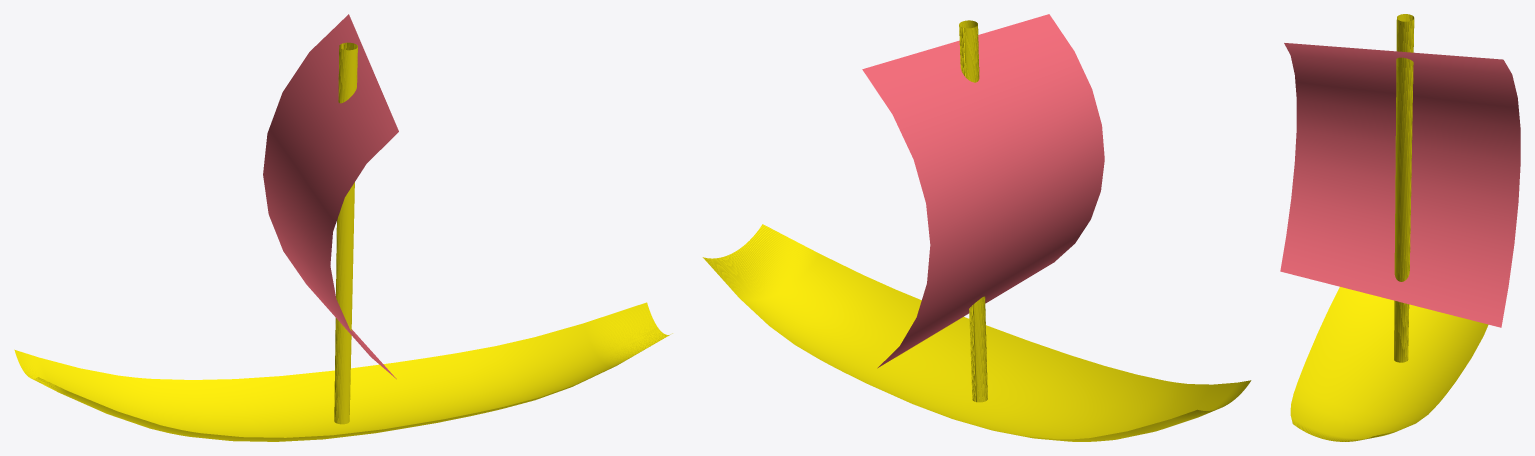
Rendered from sailingboat 2.fbx.
The picture shows the model from 3 angles, left to right: view 1: azimuth 30°, elevation 25°; view 2: azimuth 150°, elevation 25°; view 3: azimuth 270°, elevation 25°; orthographic projection. The views are drawn at different scales.
Visible parts, largest first — view 1: sailingboat1; view 2: sailingboat1; view 3: sailingboat1.
Part boxes in pixels (x1=…): sailingboat1: x1=14, y1=14, x2=672, y2=441; sailingboat1: x1=702, y1=14, x2=1251, y2=441; sailingboat1: x1=1280, y1=14, x2=1520, y2=441.
Size of the model in its own units: 79.66 by 49.35 by 30.86.
